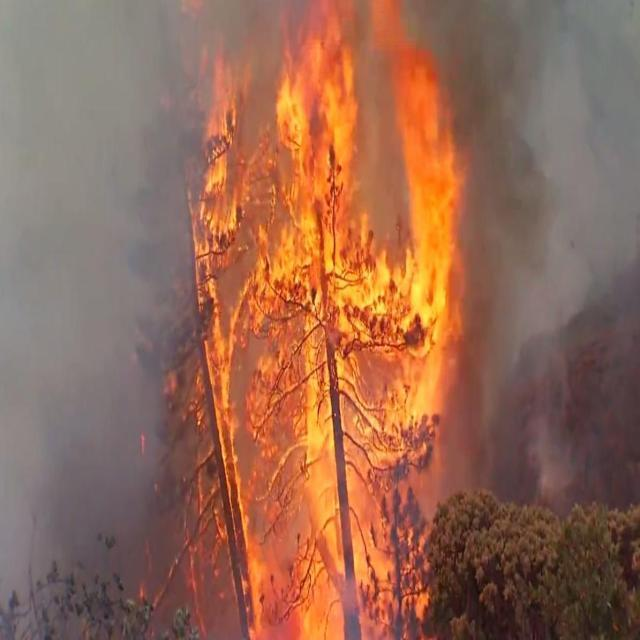Fire: (130, 6, 475, 640)
Smoke: (422, 0, 578, 505)
